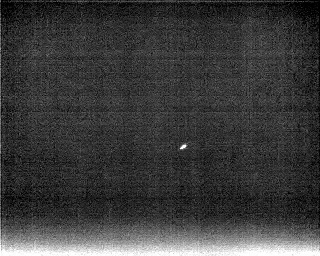BIRD: (178, 141, 190, 154)
